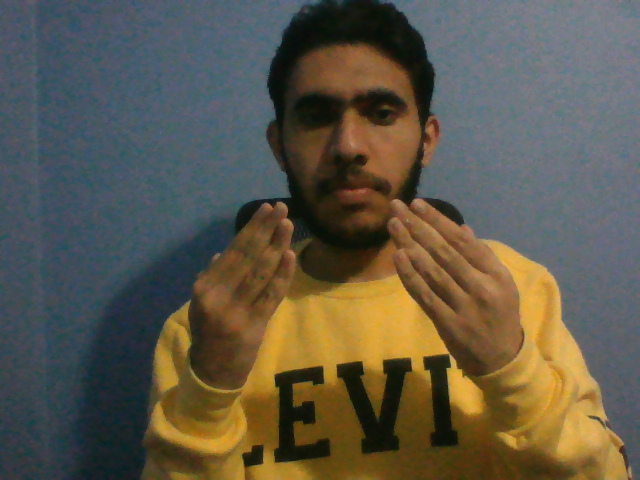thanks: (183, 195, 529, 381)
